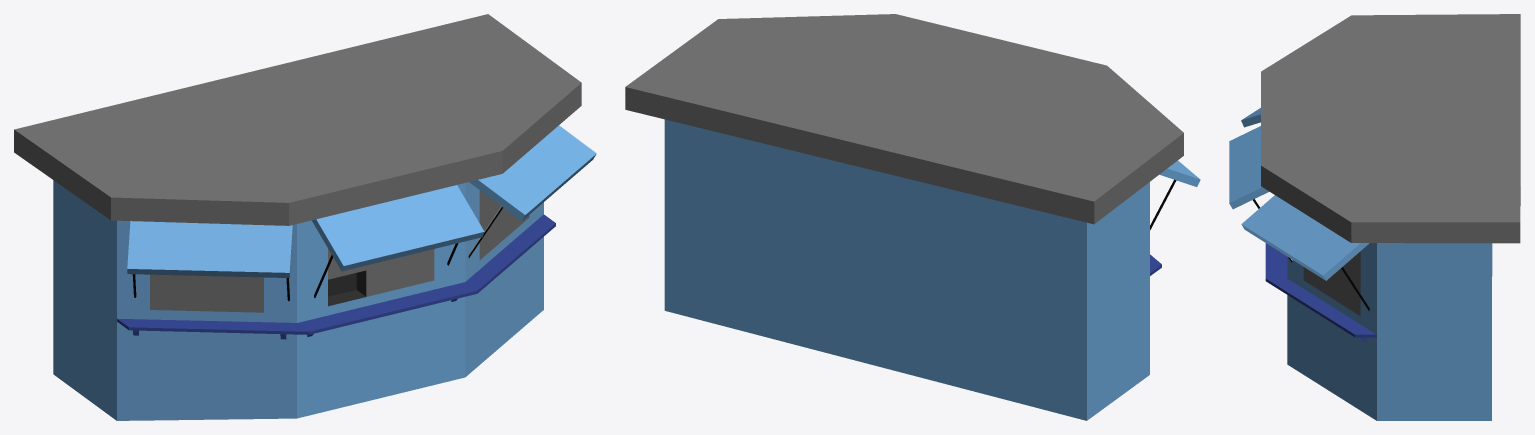
Rendered from larek.fbx.
3 views of the same model, side by side, from view 1: azimuth 30°, elevation 25°; view 2: azimuth 150°, elevation 25°; view 3: azimuth 270°, elevation 25° (orthographic). The views are drawn at different scales.
Visible parts, largest first — view 1: Cube; view 2: Cube; view 3: Cube.
Part boxes in pixels (<box>): Cube: <box>14,14,596,420</box>; Cube: <box>625,14,1200,420</box>; Cube: <box>1229,14,1520,420</box>.
Size of the model in its own units: 1114 by 536 by 658.
